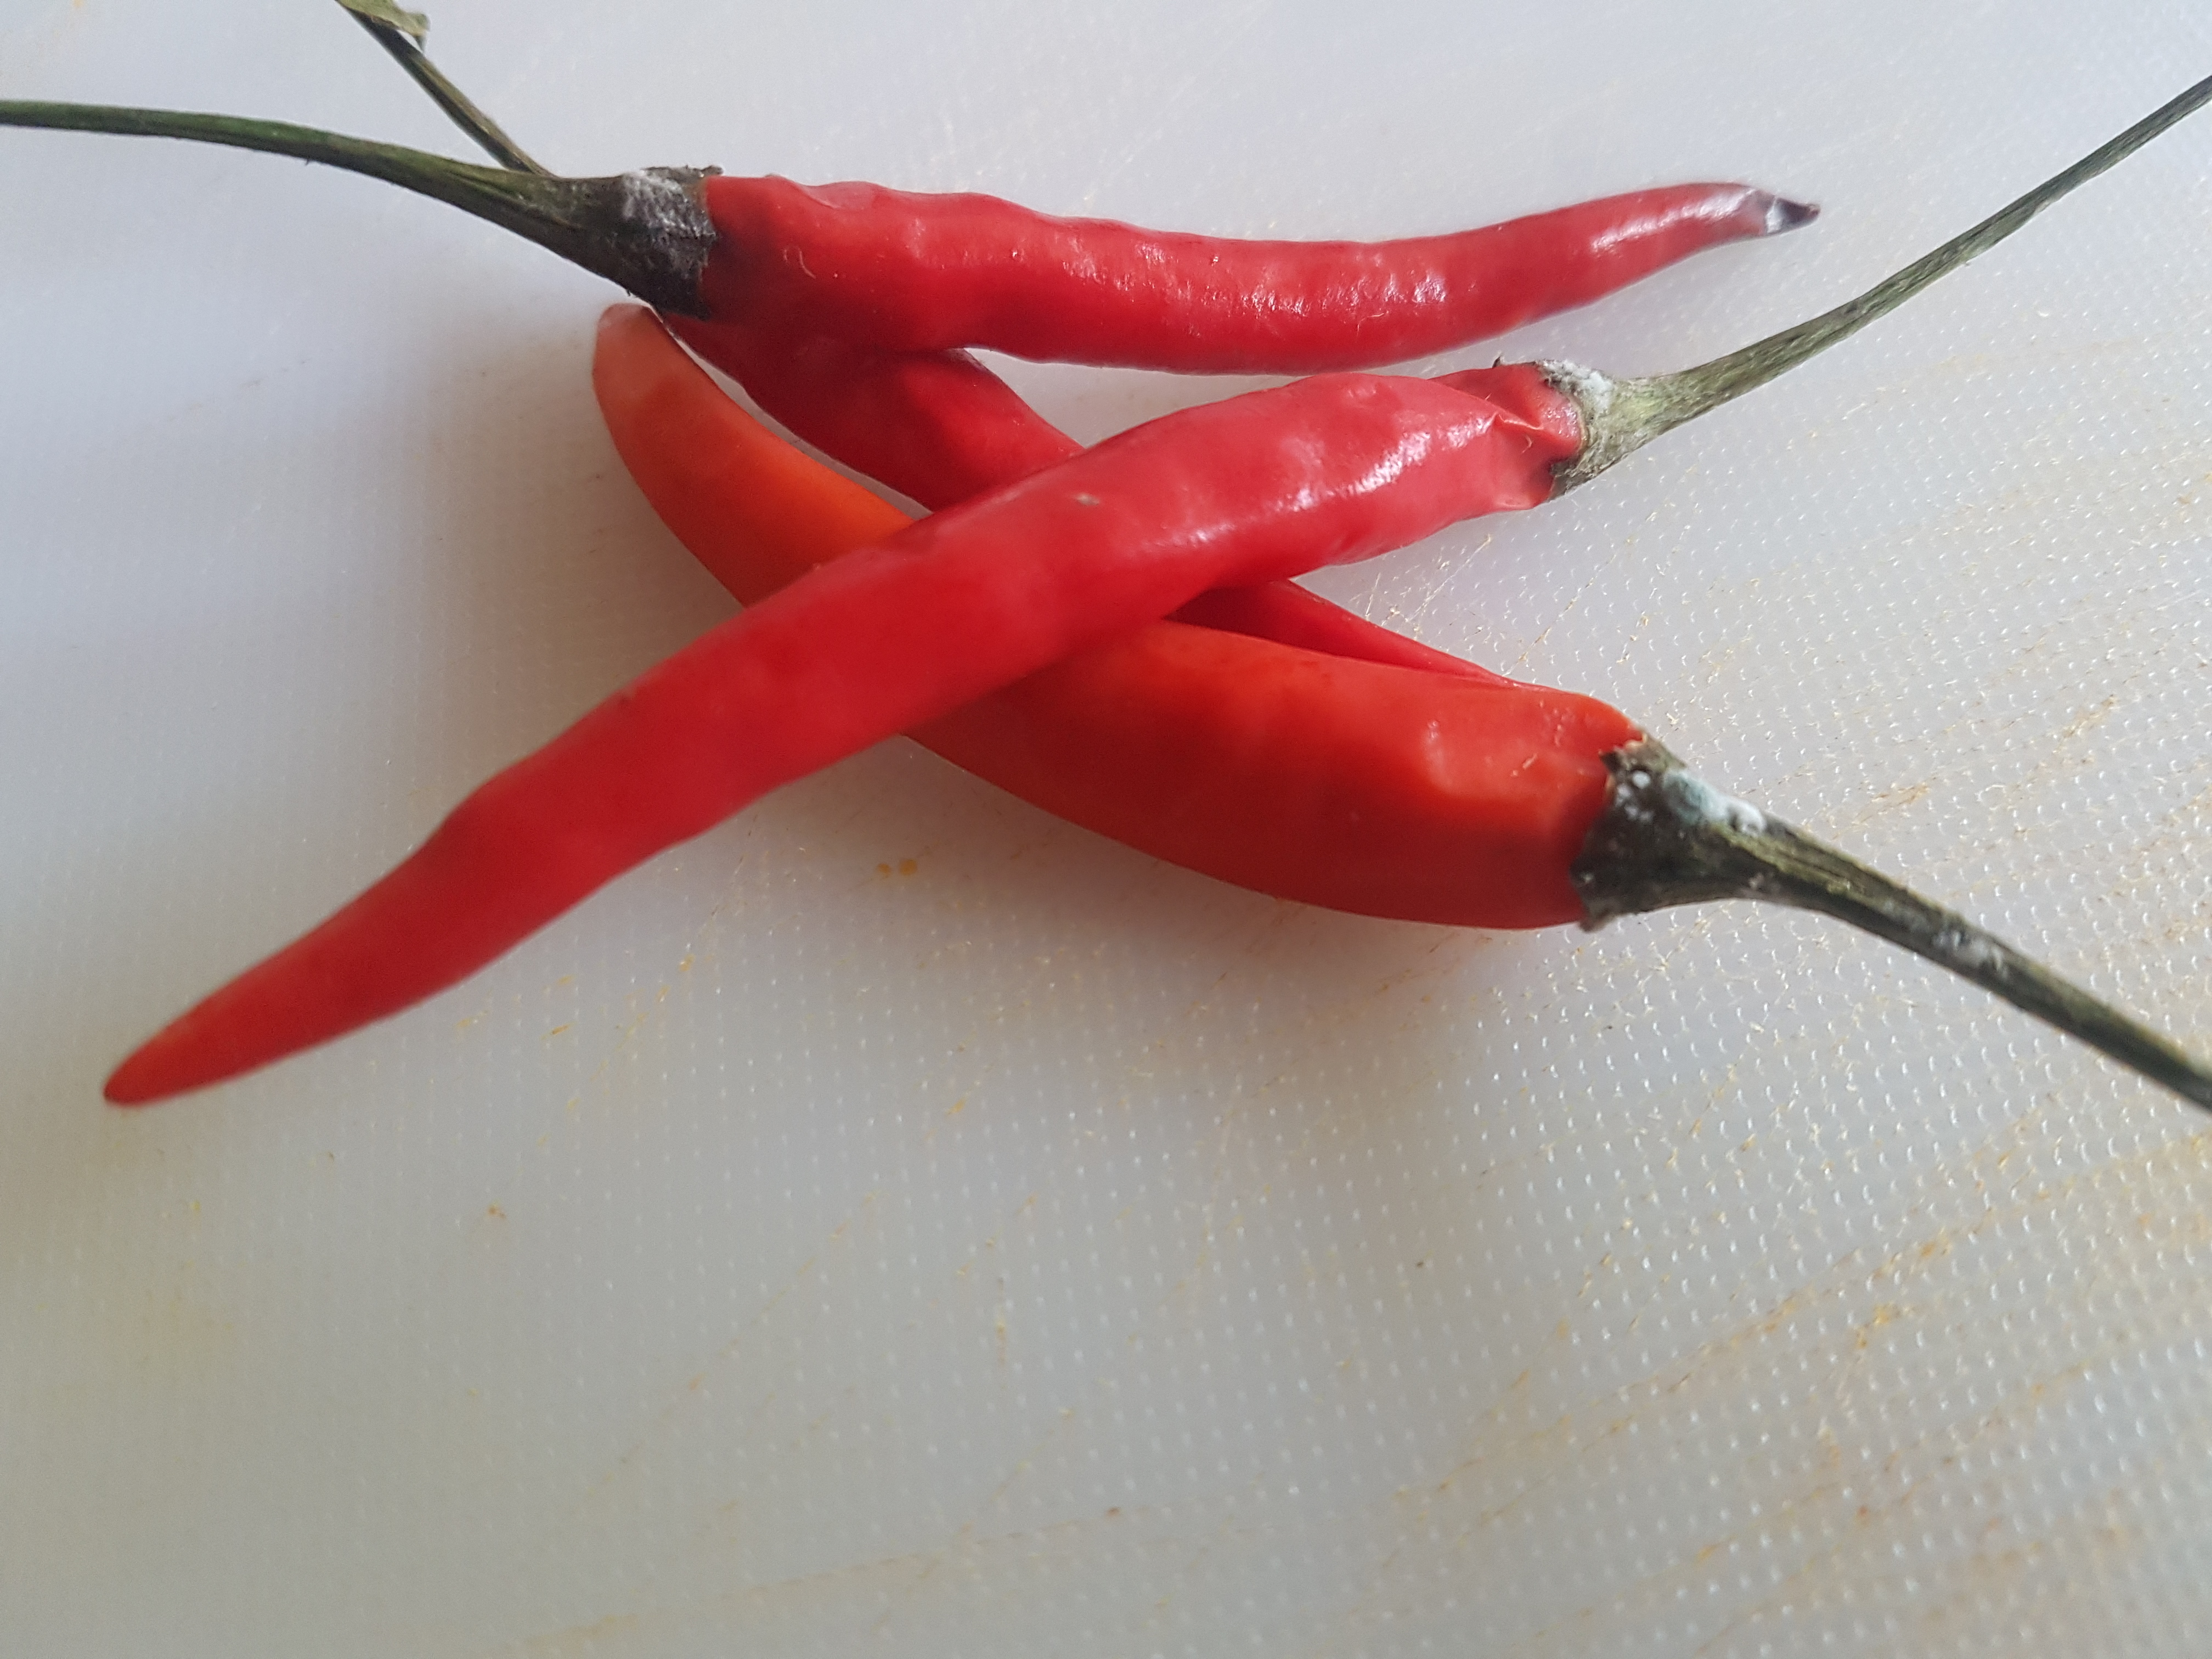Cayenne pepper: (0, 16, 2205, 1159)
